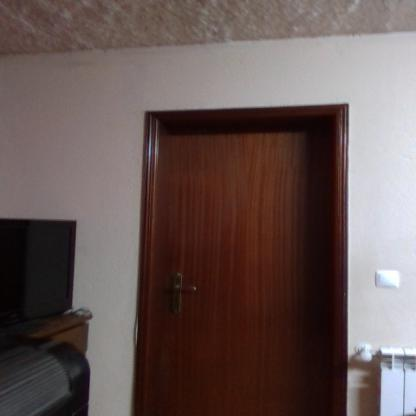door: (160, 121, 334, 415)
lever: (168, 284, 200, 296)
